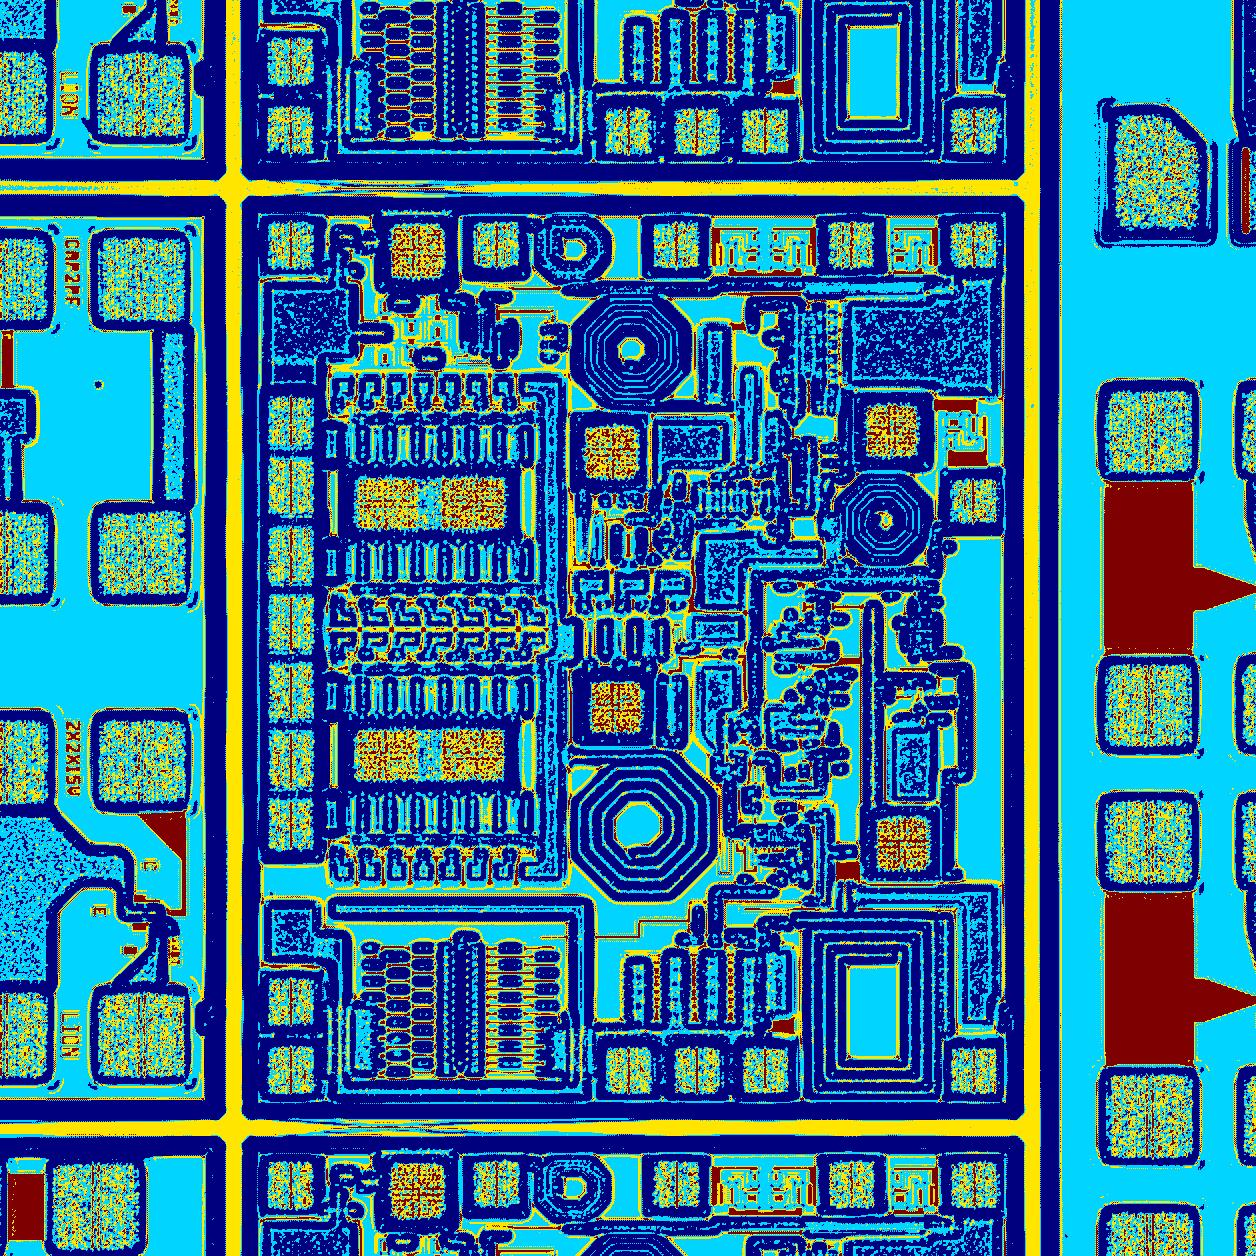Die: (242, 196, 1025, 1120), (0, 991, 48, 1077)
Pad 1: (352, 728, 422, 782), (438, 475, 506, 530), (354, 476, 420, 530), (439, 727, 505, 780), (876, 815, 932, 872), (583, 423, 640, 478), (390, 223, 445, 279), (865, 403, 920, 458), (589, 681, 643, 733)
Pad 2: (268, 661, 315, 723), (268, 524, 315, 587), (268, 729, 315, 791), (268, 455, 315, 516), (268, 593, 315, 654), (268, 797, 315, 851), (268, 396, 315, 449), (267, 1047, 315, 1094), (951, 1047, 998, 1095), (267, 977, 315, 1024), (742, 1047, 789, 1094), (605, 1047, 652, 1094), (674, 1047, 721, 1094), (828, 221, 875, 268), (474, 221, 521, 268), (267, 222, 315, 268), (653, 222, 700, 268), (951, 221, 998, 267), (951, 478, 997, 523)
